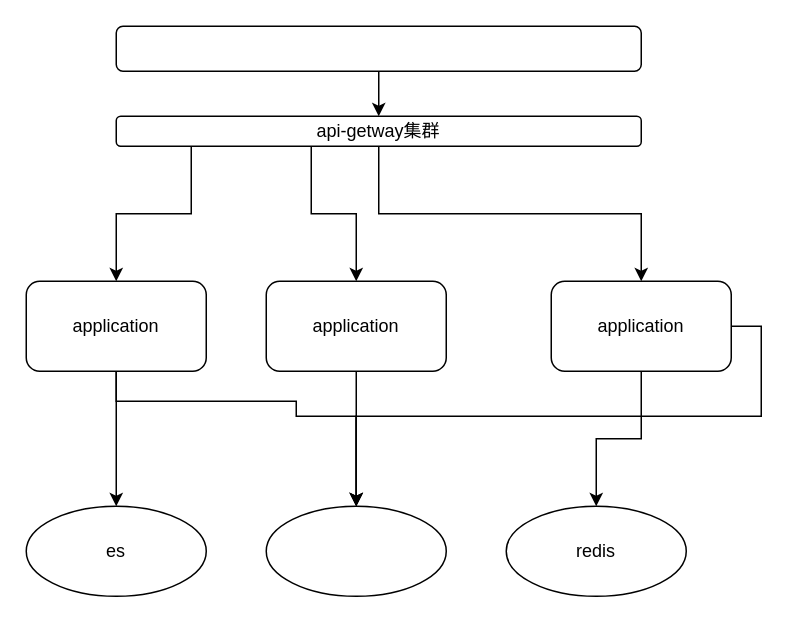
Some shapes in this 800 by 623 pixel diagram are drawn without their labels. Here are the shapes that lost their labels. From the top down, the centre of each, then its label:
point 378,48: front
point 355,550: pgsql
